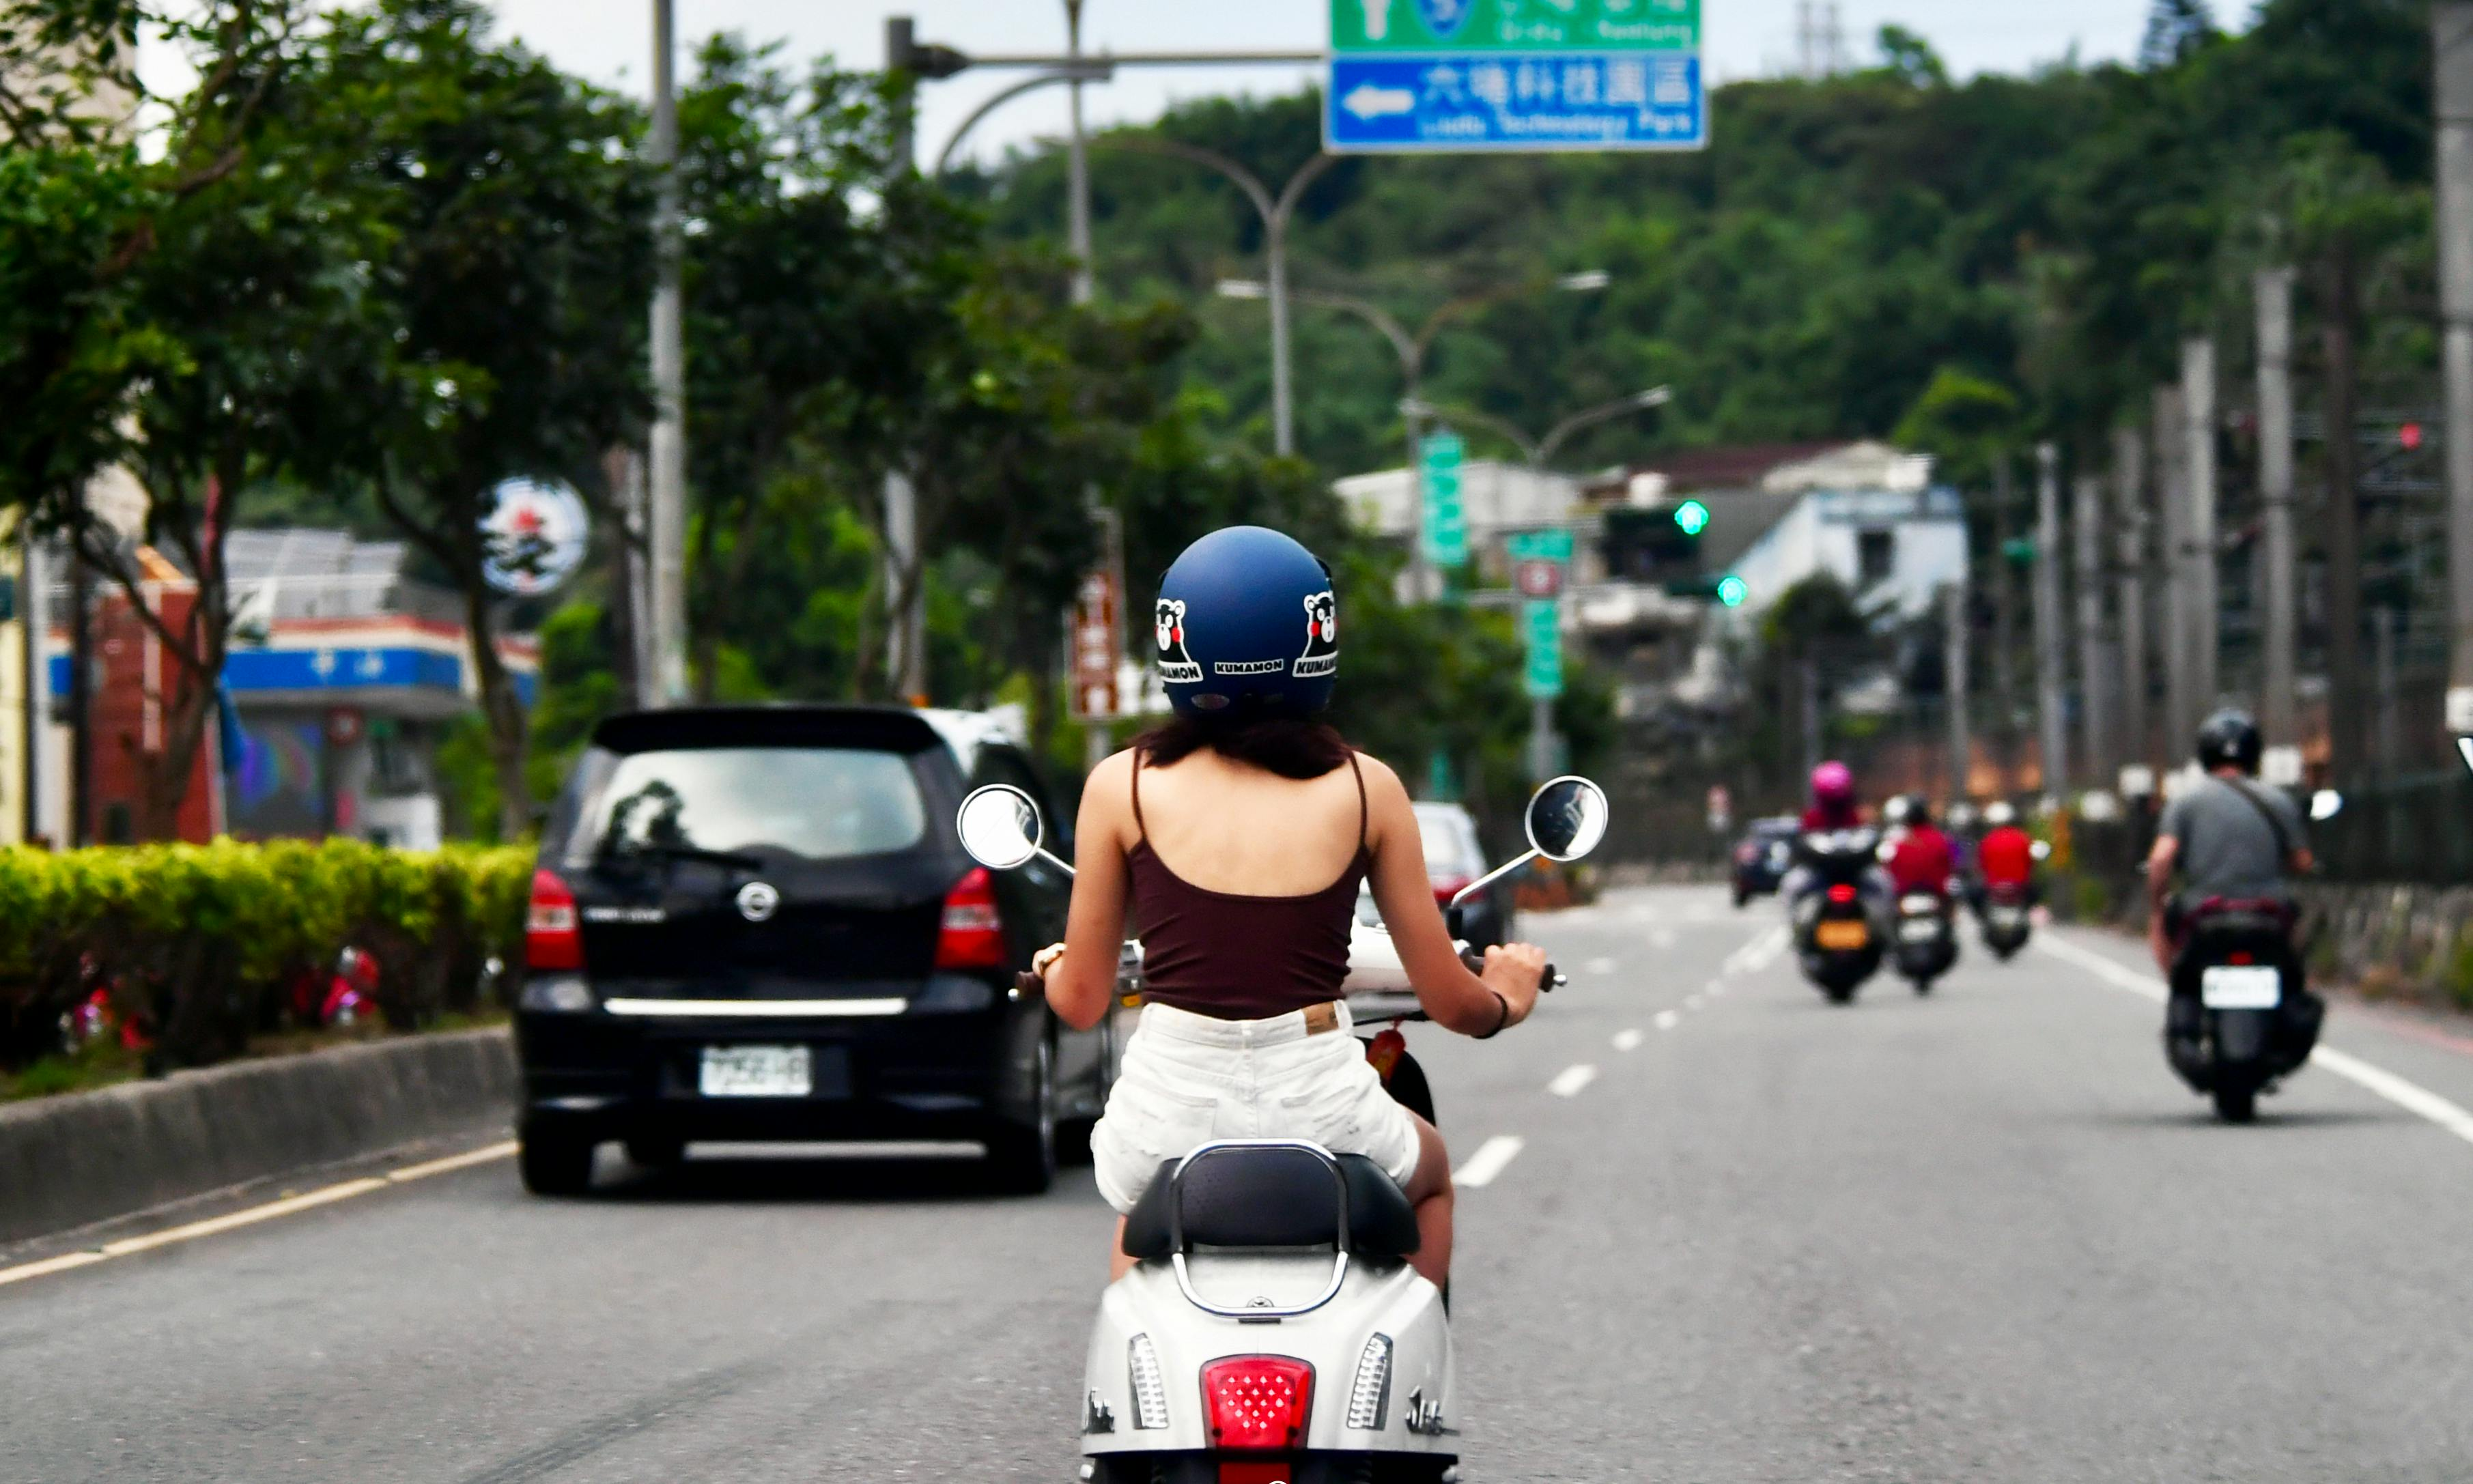capacete: (1145, 523, 1344, 724)
